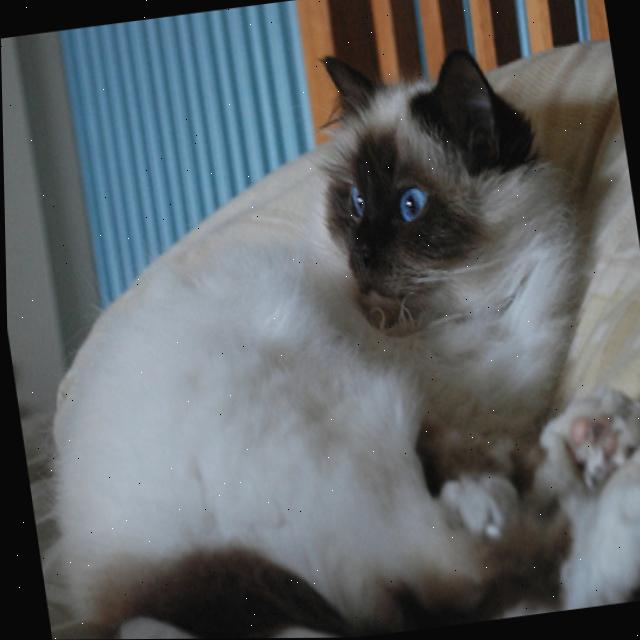Birman: (0, 15, 640, 640)
